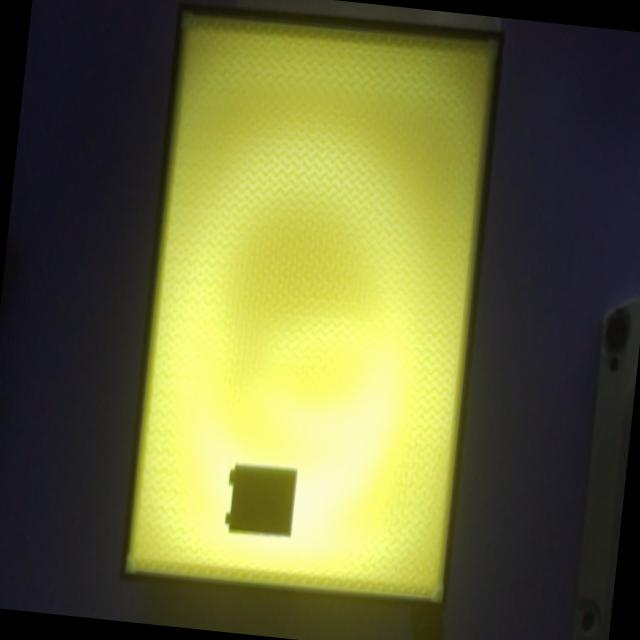bateria: (224, 463, 297, 538)
mesa: (119, 1, 505, 614)
